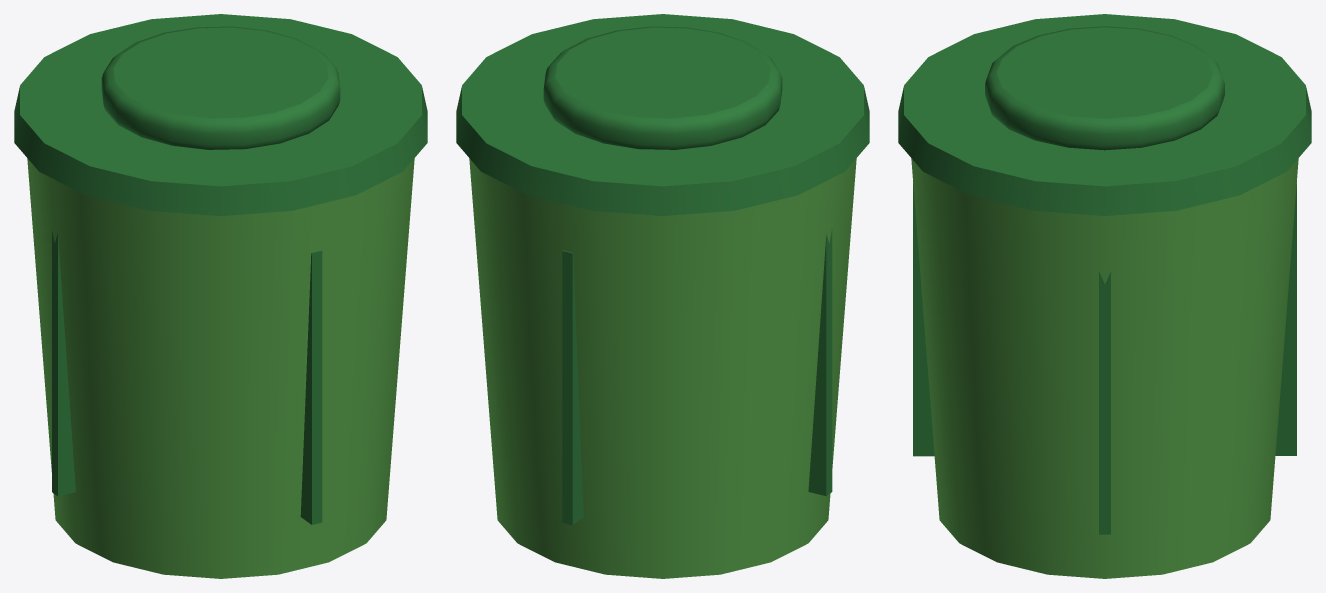
File: dustbin.glb
3 views of the same model, side by side, from view 1: azimuth 30°, elevation 25°; view 2: azimuth 150°, elevation 25°; view 3: azimuth 270°, elevation 25° (orthographic).
Parts seen in each view (by area): view 1: root; view 2: root; view 3: root.
Part boxes in pixels (box(x1,y1,x2,y2)): root: box(14, 14, 427, 578); root: box(456, 14, 869, 578); root: box(898, 14, 1311, 578).
Size of the model in its own units: 0.7 by 0.8 by 0.6894.
